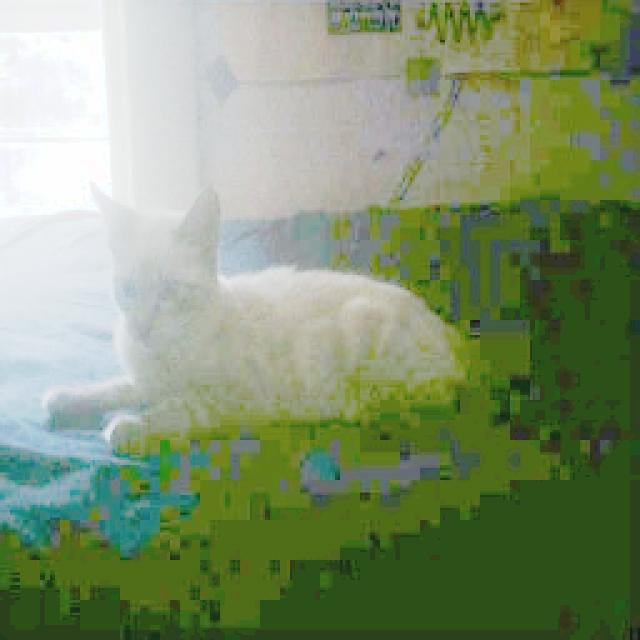cat: (55, 156, 473, 471)
